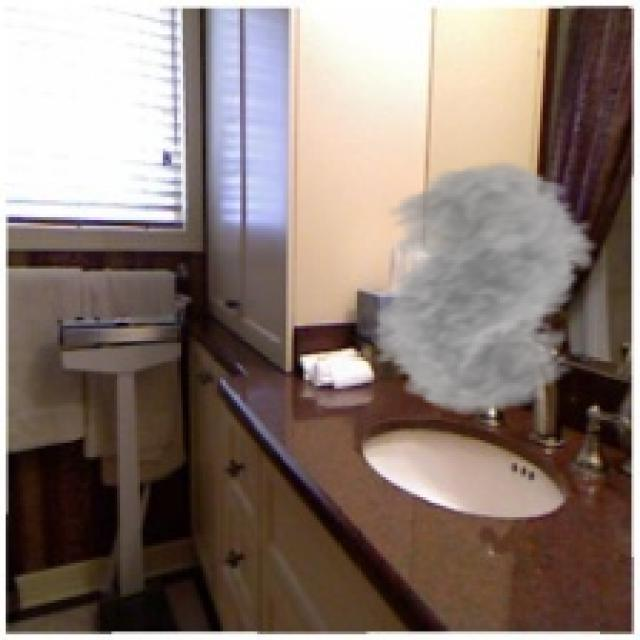Smoke: (342, 160, 618, 417)
